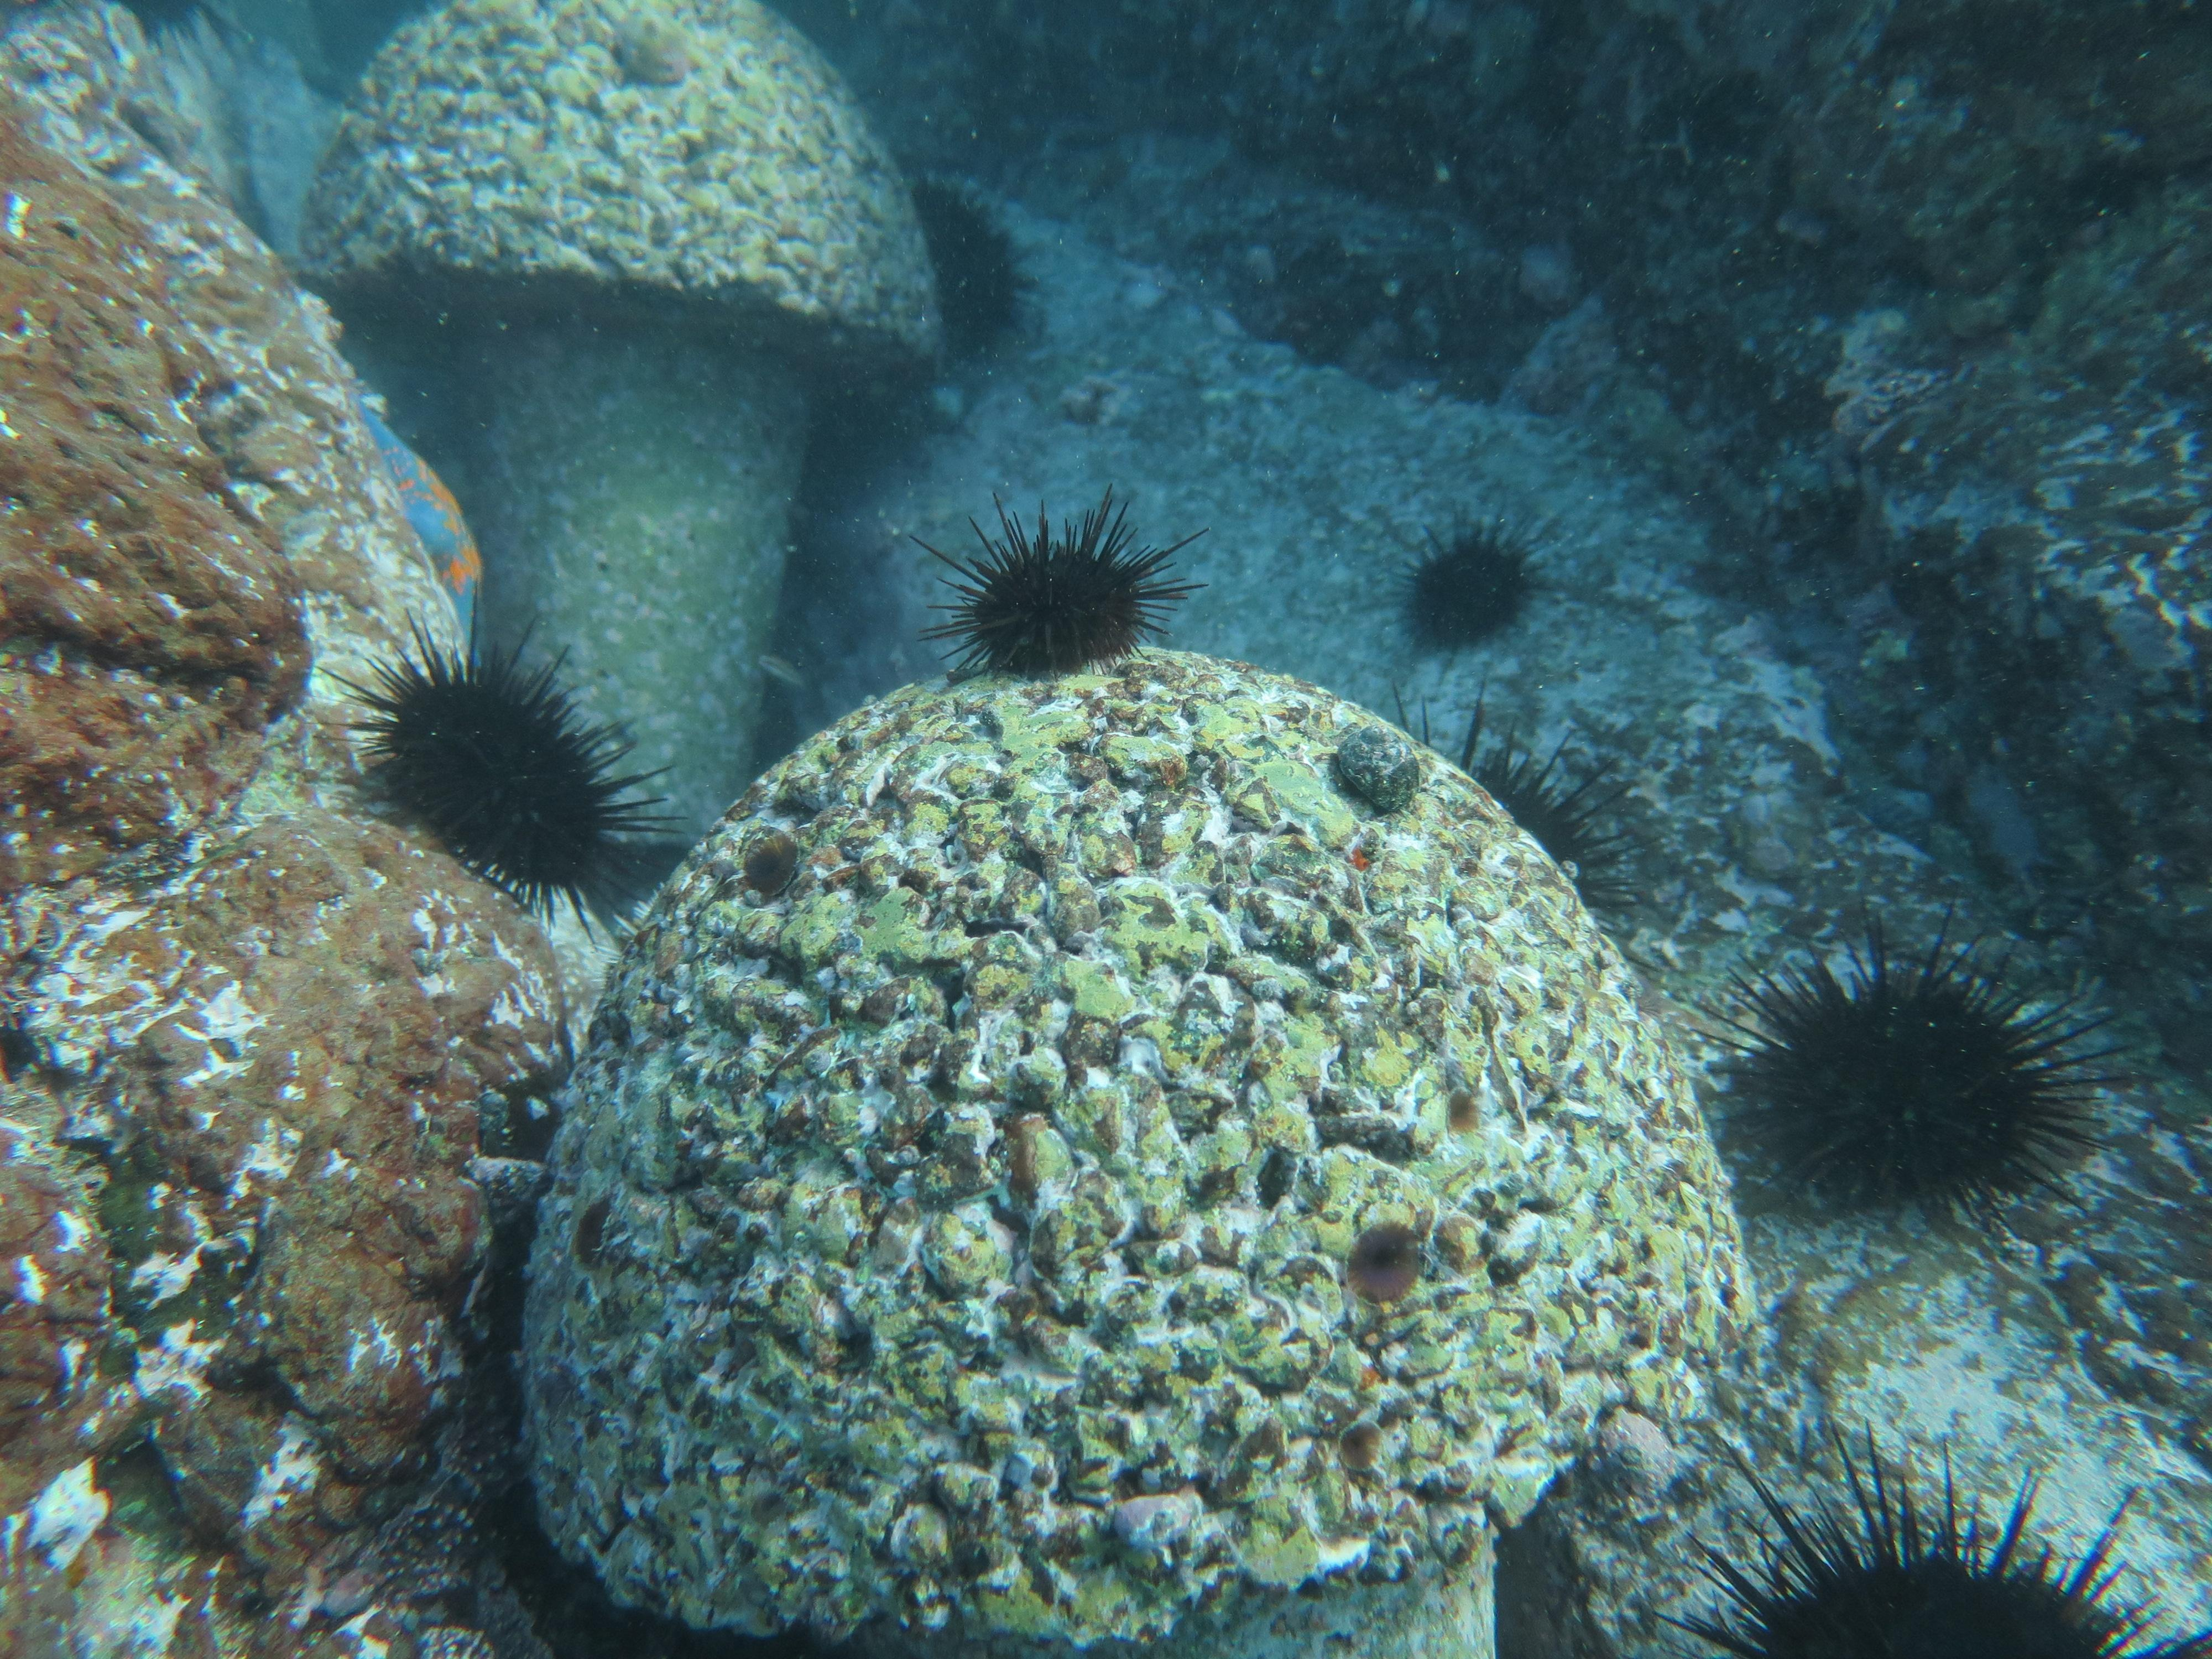urchin: (1689, 915, 2118, 1263), (341, 589, 653, 925), (921, 498, 1200, 694), (1400, 525, 1548, 657)
